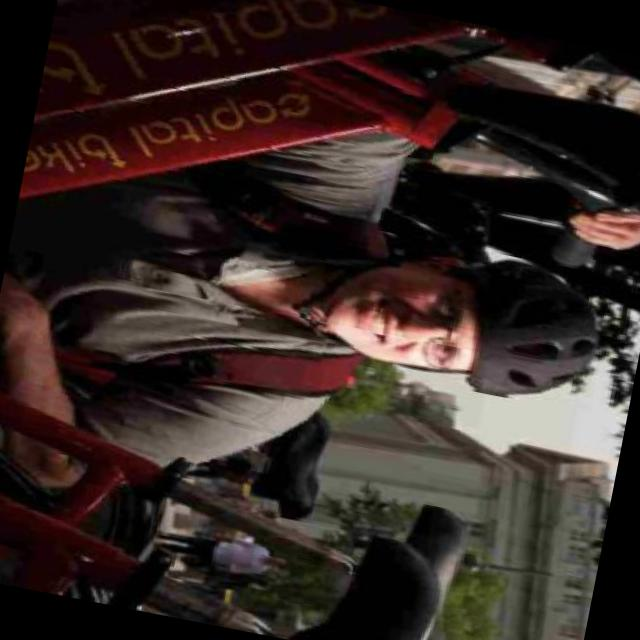With Helmet: (314, 224, 604, 426)
